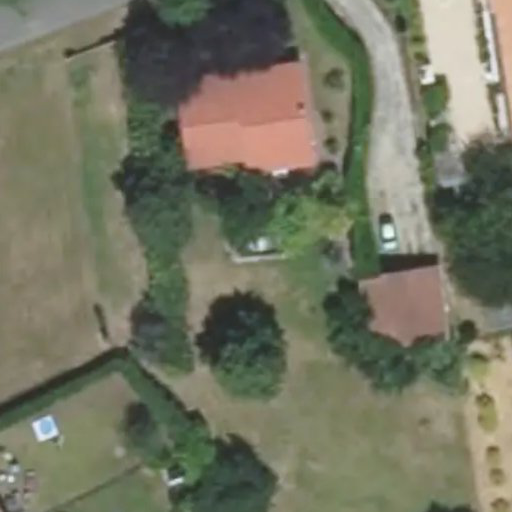pool: (227, 232, 283, 251)
